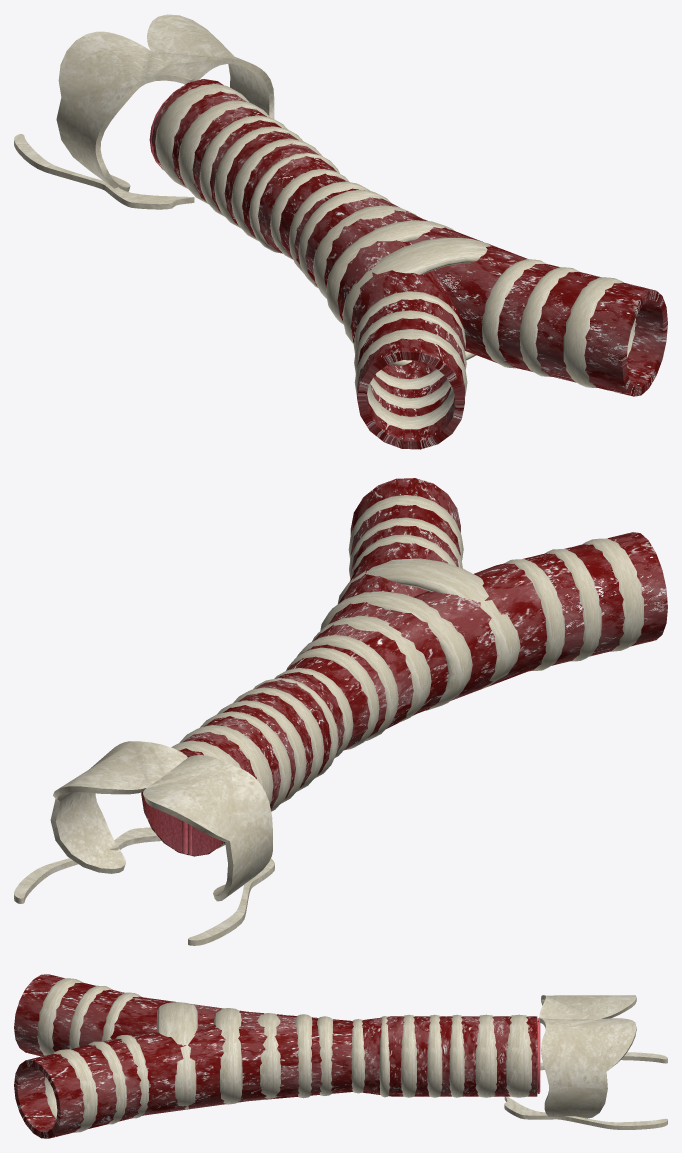
The model's file is Trachea1_2.FBX.
The picture shows the model from 3 angles, top to bottom: view 1: azimuth 30°, elevation 25°; view 2: azimuth 150°, elevation 25°; view 3: azimuth 270°, elevation 25°; orthographic projection. The views are drawn at different scales.
Visible parts, largest first — view 1: Cylinder006, Cylinder005, TopPart, Cylinder002, Torus017, Torus020, Torus023, Torus016, Torus011, Torus022, Torus019, Torus018 (+10 smaller); view 2: Cylinder005, TopPart, Cylinder006, Cylinder002, Torus017, Torus016, Torus023, Torus015, Torus021, Torus022, Torus014, Torus013 (+12 smaller); view 3: Cylinder006, TopPart, Cylinder002, Cylinder005, Torus017, Torus016, Torus011, Torus010, Torus020, Torus015, Torus023, Torus014 (+11 smaller).
Part boxes in pixels (x1=…): Cylinder006: x1=328, y1=175, x2=667, y2=396; Cylinder005: x1=279, y1=173, x2=464, y2=449; TopPart: x1=14, y1=14, x2=274, y2=209; Cylinder002: x1=151, y1=79, x2=336, y2=253; Torus017: x1=342, y1=237, x2=491, y2=365; Torus020: x1=563, y1=277, x2=635, y2=387; Torus023: x1=354, y1=329, x2=467, y2=429; Torus016: x1=326, y1=220, x2=454, y2=324; Torus011: x1=155, y1=84, x2=249, y2=188; Torus022: x1=354, y1=310, x2=466, y2=408; Torus019: x1=519, y1=267, x2=579, y2=376; Torus018: x1=482, y1=259, x2=545, y2=368; Cylinder005: x1=303, y1=532, x2=667, y2=749; TopPart: x1=14, y1=741, x2=274, y2=945; Cylinder006: x1=287, y1=478, x2=460, y2=670; Cylinder002: x1=141, y1=671, x2=344, y2=856; Torus017: x1=337, y1=558, x2=520, y2=688; Torus016: x1=320, y1=591, x2=472, y2=710; Torus023: x1=583, y1=538, x2=643, y2=651; Torus015: x1=312, y1=615, x2=431, y2=722; Torus021: x1=505, y1=559, x2=564, y2=671; Torus022: x1=545, y1=549, x2=601, y2=661; Torus014: x1=297, y1=635, x2=398, y2=741; Torus013: x1=286, y1=647, x2=379, y2=750; Cylinder006: x1=14, y1=1021, x2=352, y2=1138; TopPart: x1=504, y1=995, x2=667, y2=1129; Cylinder002: x1=362, y1=1016, x2=537, y2=1096; Cylinder005: x1=14, y1=974, x2=353, y2=1056; Torus017: x1=157, y1=1002, x2=197, y2=1109; Torus016: x1=214, y1=1008, x2=242, y2=1104; Torus011: x1=506, y1=1014, x2=531, y2=1097; Torus010: x1=475, y1=1014, x2=497, y2=1097; Torus020: x1=44, y1=1049, x2=97, y2=1132; Torus015: x1=256, y1=1013, x2=280, y2=1098; Torus023: x1=37, y1=978, x2=82, y2=1055; Torus014: x1=295, y1=1014, x2=312, y2=1098.
Bounding box in the file's own units: 11.91 × 4.4 × 28.8.
Materials: 3 (3 with a texture image).
